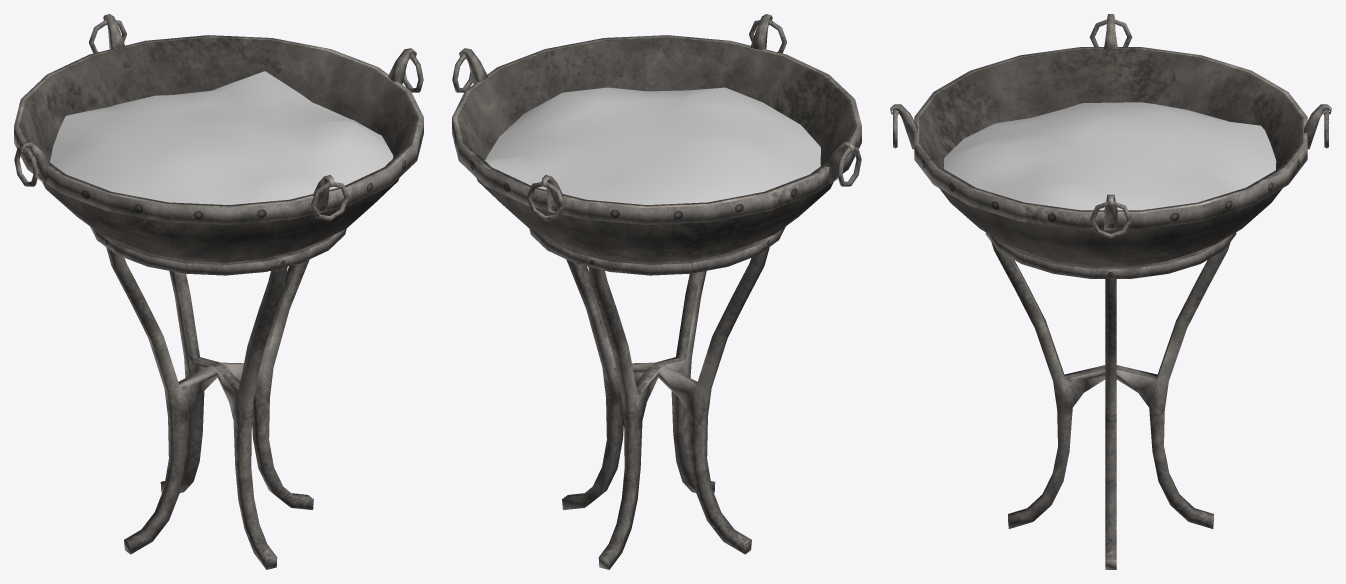
Rendered from Brazier.fbx.
3 views of the same model, side by side, from view 1: azimuth 30°, elevation 25°; view 2: azimuth 150°, elevation 25°; view 3: azimuth 270°, elevation 25° (orthographic). The views are drawn at different scales.
Visible parts, largest first — view 1: Braizer, Coals, Stand; view 2: Braizer, Coals, Stand; view 3: Braizer, Coals, Stand.
Boxes of the visible parts, x1,y1,x2,y2 form: Braizer: (14, 14, 423, 262); Coals: (50, 71, 393, 204); Stand: (90, 226, 346, 569); Braizer: (452, 14, 861, 262); Coals: (484, 87, 820, 204); Stand: (529, 226, 785, 569); Braizer: (890, 14, 1331, 266); Coals: (943, 102, 1276, 210); Stand: (985, 232, 1236, 569).
Size of the model in its own units: 196 by 206 by 196.
